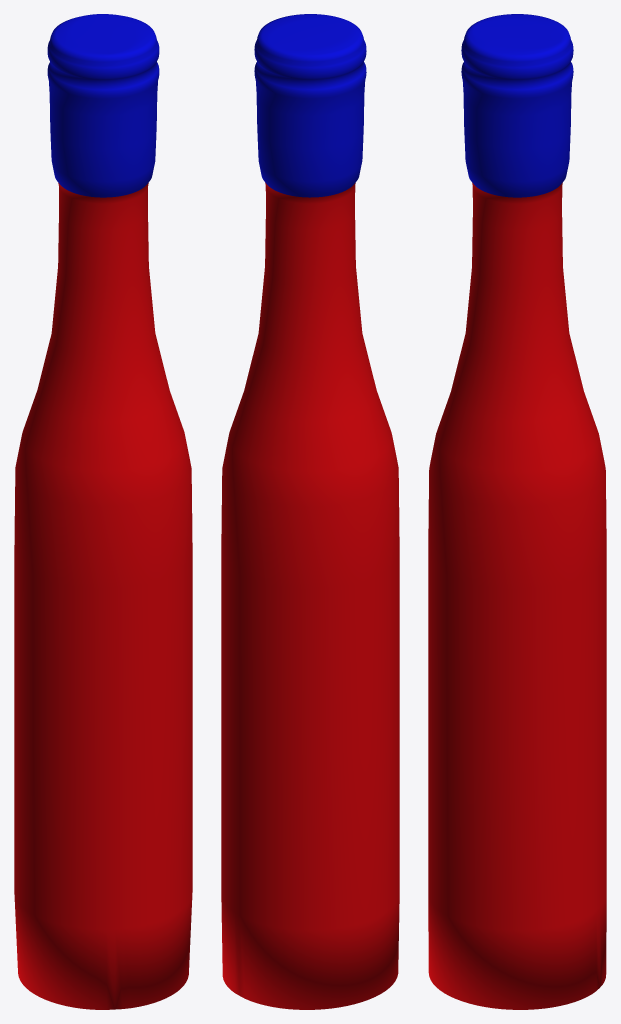
The model's file is NCR Bottle 3.fbx.
3 renders of one model, left to right at view 1: azimuth 30°, elevation 25°; view 2: azimuth 150°, elevation 25°; view 3: azimuth 270°, elevation 25°, orthographic.
Visible parts, largest first — view 1: Alcohol Bottle 3; view 2: Alcohol Bottle 3; view 3: Alcohol Bottle 3.
Boxes of the visible parts, bbox=[...] form: Alcohol Bottle 3: bbox=[14, 14, 192, 1009]; Alcohol Bottle 3: bbox=[221, 14, 399, 1009]; Alcohol Bottle 3: bbox=[428, 14, 606, 1009].
Size of the model in its own units: 11.61 by 67.41 by 11.61.
